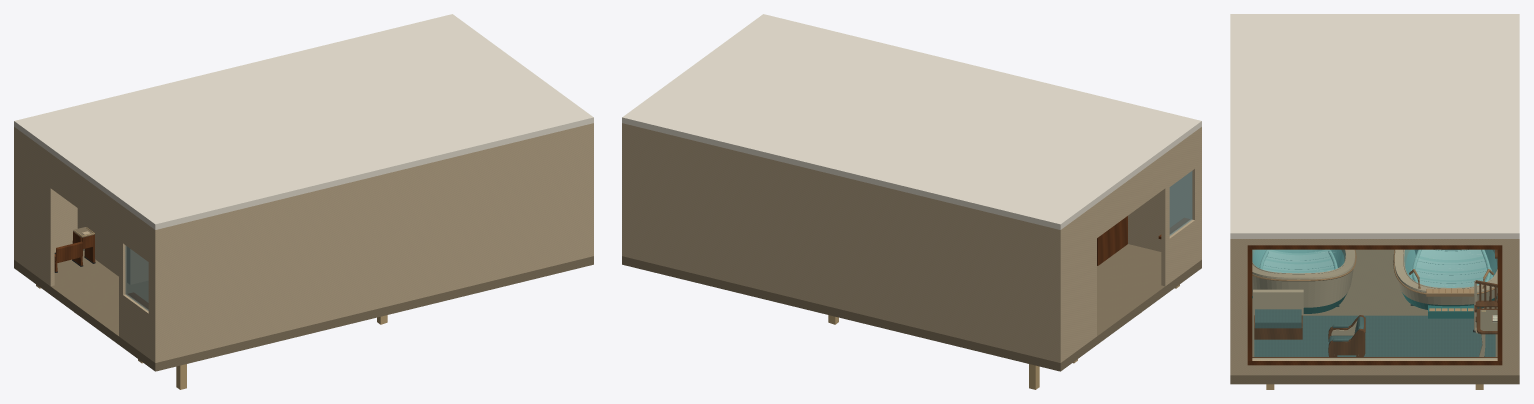
The model's file is NG554_WarmInterior_r001.glb.
The picture shows the model from 3 angles, left to right: view 1: azimuth 30°, elevation 25°; view 2: azimuth 150°, elevation 25°; view 3: azimuth 270°, elevation 25°; orthographic projection. The views are drawn at different scales.
Parts seen in each view (by area): view 1: NG554_RuntimeBatch_001, NG554_RoomFloor, NG554_ScreenedStreetGlass, NG554_RuntimeBatch_013; view 2: NG554_RuntimeBatch_001, NG554_RoomFloor, NG554_ScreenedStreetGlass, NG554_RuntimeBatch_002; view 3: NG554_RuntimeBatch_001, NGP_554_PrivateViewPane, NGW_554_OutlookFloorInlay, NG554_RoomFloor, NG554_ReservedRestSupport_02__Hollow continuous basin shell , NG554_ReservedRestSupport_01__WaterSurface_VisualOnly, NG554_ReservedRestSupport_01__Contoured broad immersed rest , NG554_ReservedRestSupport_01__Hollow continuous basin shell , NG554_ReservedRestSupport_02__WaterSurface_VisualOnly, NGP_554_Frame_Sill, NG554_ReservedRestSupport_02__Contoured broad immersed rest , NGP_554_Frame_Head (+11 smaller).
Part boxes in pixels (box(x1,y1,x2,y2)): NG554_RuntimeBatch_001: box(14, 14, 593, 362); NG554_RoomFloor: box(14, 250, 593, 371); NG554_ScreenedStreetGlass: box(125, 245, 148, 310); NG554_RuntimeBatch_013: box(54, 231, 95, 271); NG554_RuntimeBatch_001: box(622, 14, 1201, 362); NG554_RoomFloor: box(622, 244, 1201, 371); NG554_ScreenedStreetGlass: box(1169, 171, 1192, 235); NG554_RuntimeBatch_002: box(1097, 216, 1190, 265); NG554_RuntimeBatch_001: box(1230, 14, 1519, 375); NGP_554_PrivateViewPane: box(1252, 250, 1497, 358); NGW_554_OutlookFloorInlay: box(1254, 315, 1495, 356); NG554_RoomFloor: box(1230, 249, 1519, 384); NG554_ReservedRestSupport_02__Hollow continuous basin shell : box(1252, 249, 1355, 313); NG554_ReservedRestSupport_01__WaterSurface_VisualOnly: box(1406, 250, 1496, 287); NG554_ReservedRestSupport_01__Contoured broad immersed rest : box(1412, 249, 1490, 287); NG554_ReservedRestSupport_01__Hollow continuous basin shell : box(1394, 249, 1497, 309); NG554_ReservedRestSupport_02__WaterSurface_VisualOnly: box(1253, 250, 1343, 272); NGP_554_Frame_Sill: box(1247, 357, 1502, 365); NG554_ReservedRestSupport_02__Contoured broad immersed rest : box(1263, 249, 1334, 273); NGP_554_Frame_Head: box(1247, 245, 1502, 249).
Bounding box in the file's own units: 12.9 × 5.31 × 7.2.
51 materials, 20 textured.
